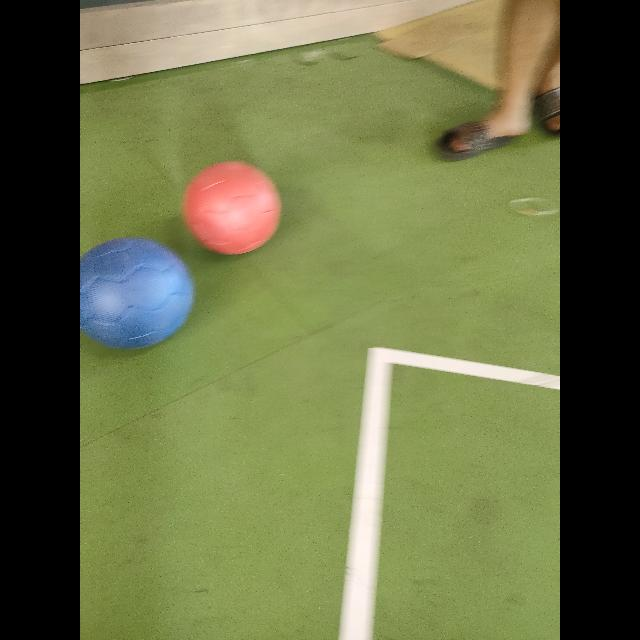B: (80, 238, 194, 349)
R: (182, 161, 281, 255)
